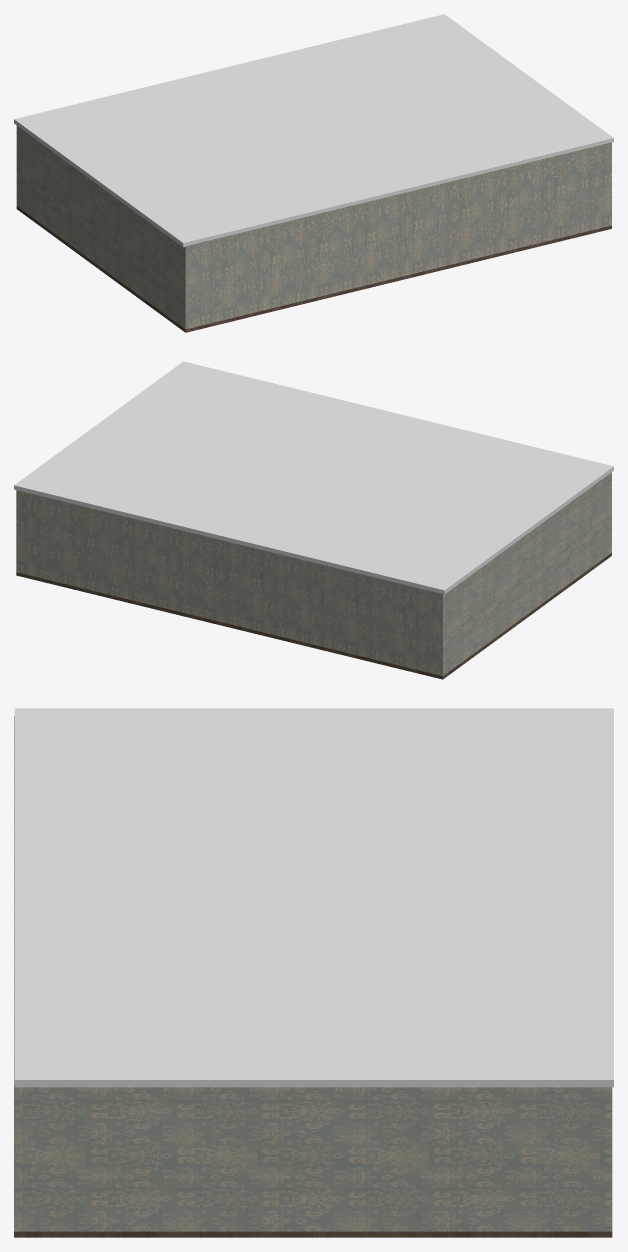
The model's file is gallery3.glb.
3 views of the same model, one above another, from view 1: azimuth 30°, elevation 25°; view 2: azimuth 150°, elevation 25°; view 3: azimuth 270°, elevation 25° (orthographic). The views are drawn at different scales.
Visible parts, largest first — view 1: ceiling, walls; view 2: ceiling, walls; view 3: ceiling, walls.
Part boxes in pixels (bbox=[...]): ceiling: bbox=[14, 14, 613, 247]; walls: bbox=[16, 125, 611, 332]; ceiling: bbox=[14, 361, 613, 594]; walls: bbox=[16, 472, 611, 679]; ceiling: bbox=[14, 708, 613, 1087]; walls: bbox=[14, 716, 612, 1237].
Bounding box in the file's own units: 29.39 × 5.87 × 20.05.
3 materials, 2 textured.
